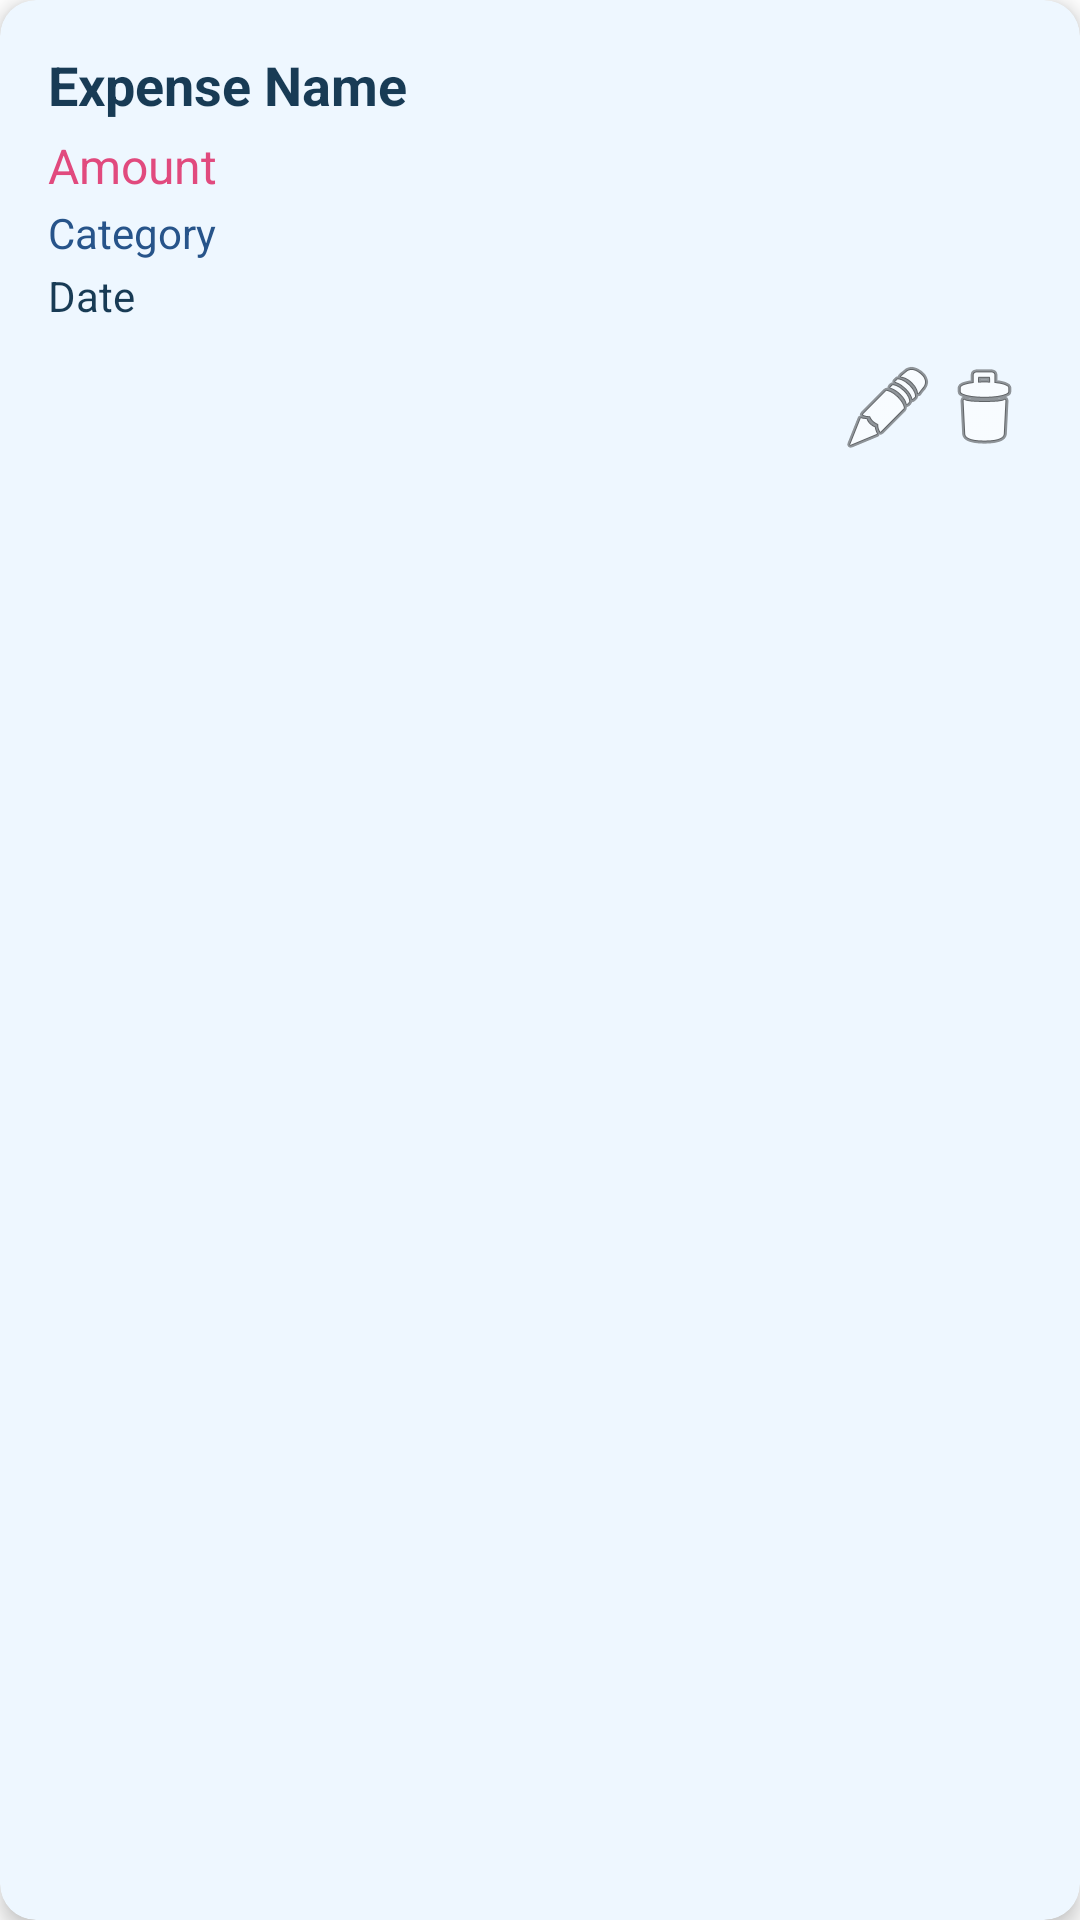

Icon bounding boxes for this 1080 x 1920 phone screenshot, format [x1, y1, x2, y2]:
Delete Expense: [957, 369, 1012, 444]
Edit Expense: [847, 367, 928, 448]
